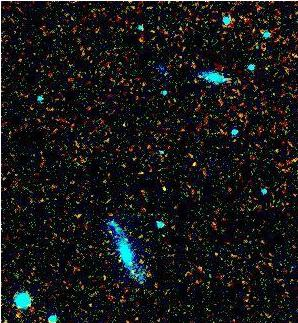star: (182, 150, 212, 180)
